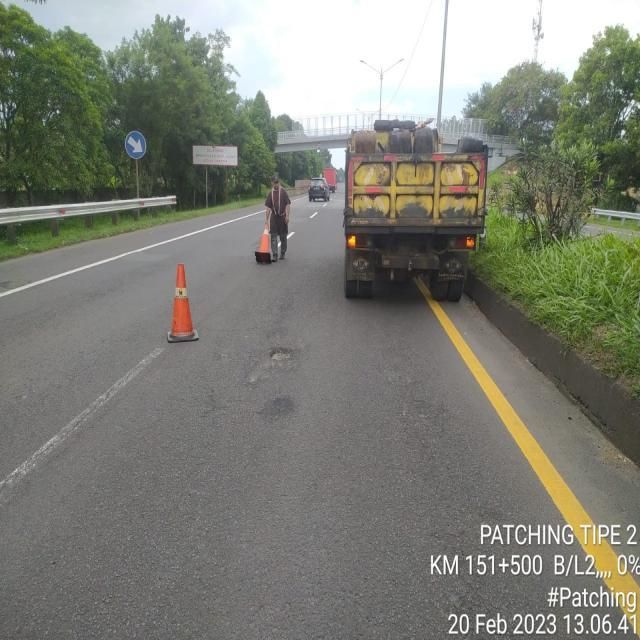Buraco: (264, 345, 297, 363)
